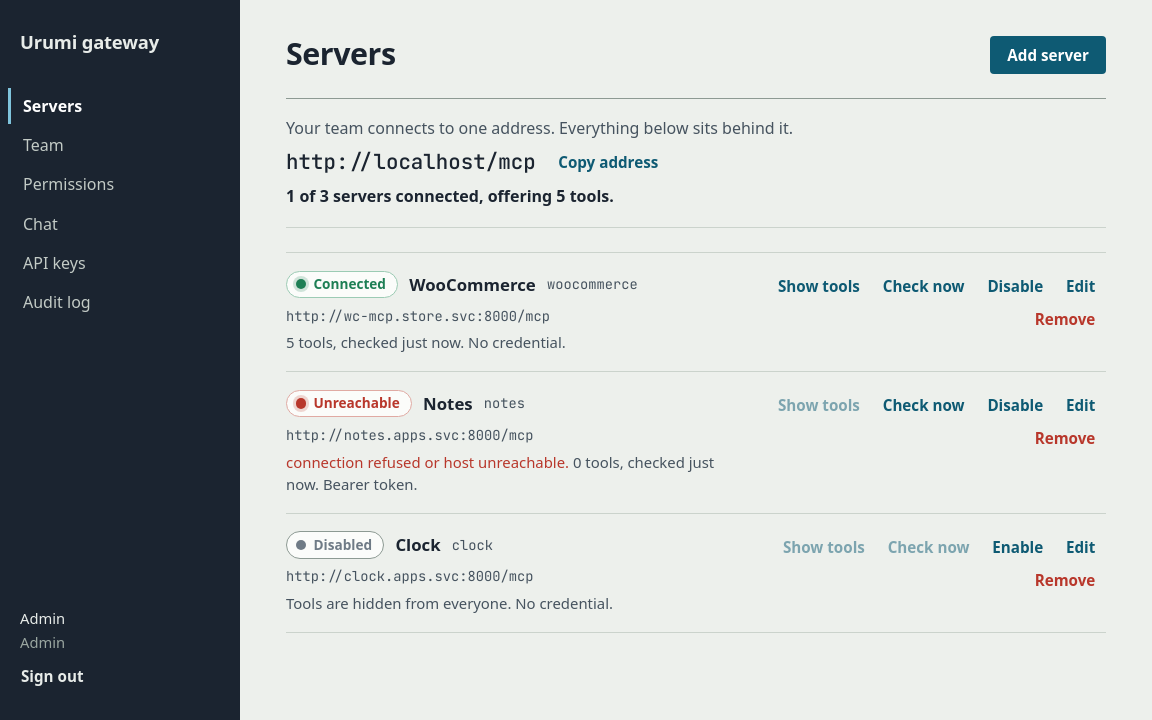
Scenario: servers › never puts a stored credential back in the edit form
Check: the heading "Servers" is shown, box top-left (286, 37), bottom-right (396, 72)
Click the 2nd button "Edit": (1081, 406) top-left (1055, 390), bottom-right (1106, 421)
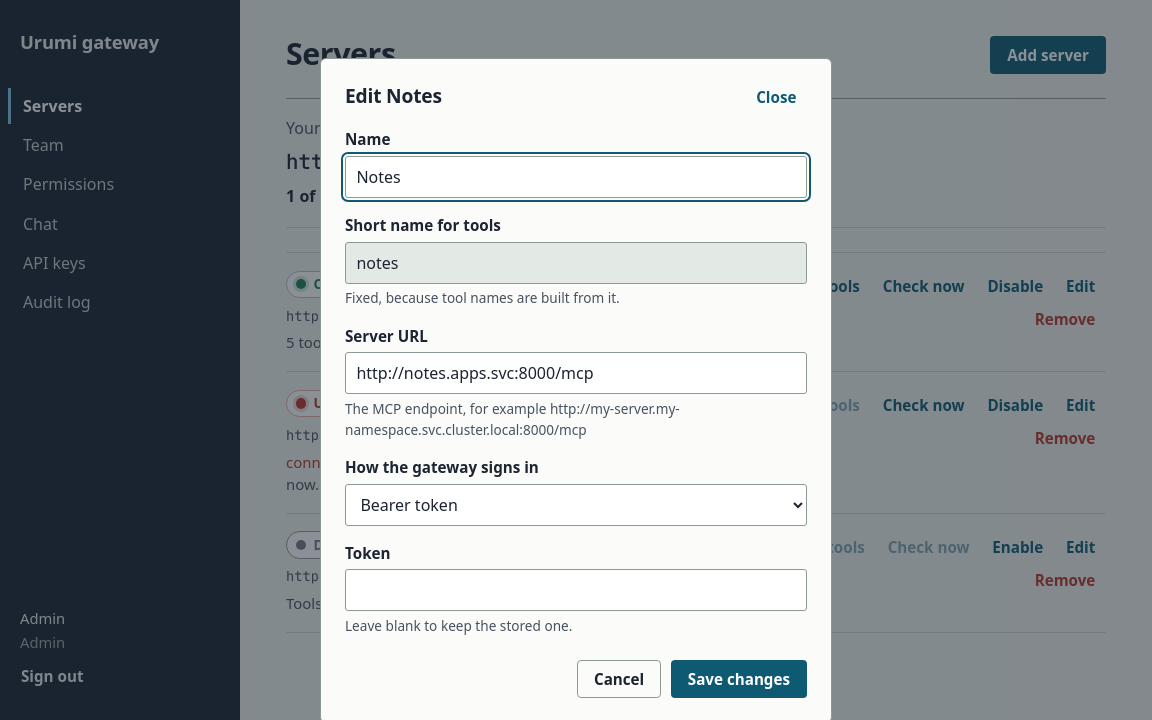
Check: the password field labelled "Token" is empty, box top-left (345, 569), bottom-right (807, 611)
Check: the text "Leave blank to keep the stored one." is shown, box top-left (345, 616), bottom-right (572, 635)
